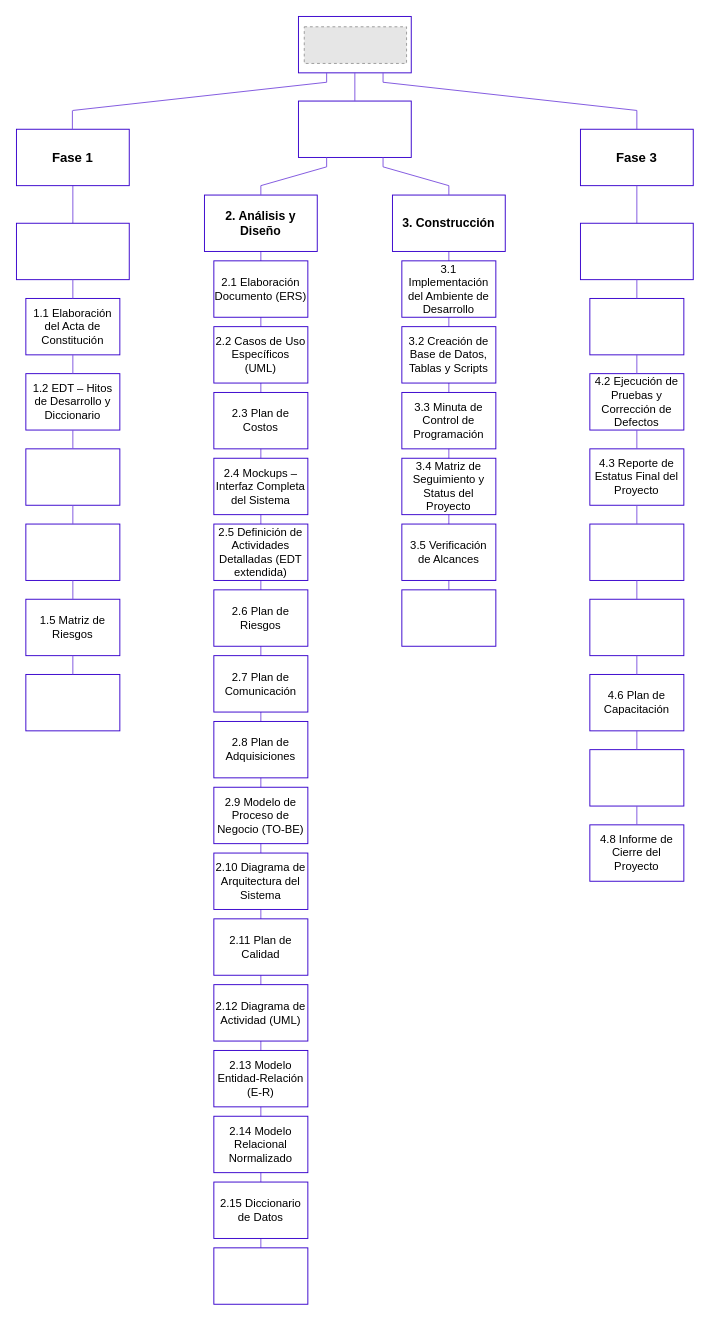
The diagram is 710 pixels wide and 1321 high, and some of its shapes have lost their labels. Grey dashed boxes stand in for pictures. Here are the shapes that lost their labels. From the top down, the centre of each, then its label:
point 354,128: Fase 2
point 72,251: 1. Planificación Inicial
point 636,251: 4. Implementación y Cierre
point 636,326: 4.1 Plan de Pruebas Final
point 72,476: 1.3 Carta Gantt
point 72,551: 1.4 Definición de Responsabilidades (RACI)
point 636,551: 4.4 Plan de Implantación (Deploy)
point 448,617: 3.6 Matriz de Gestión y Control de Cambios
point 636,627: 4.5 Plan de Soporte y Mantención
point 72,702: 1.6 Plan de Pruebas Inicial
point 636,777: 4.7 Manual de Usuario y Manual de Administrador
point 260,1275: 2.16 Diagrama de Clases
